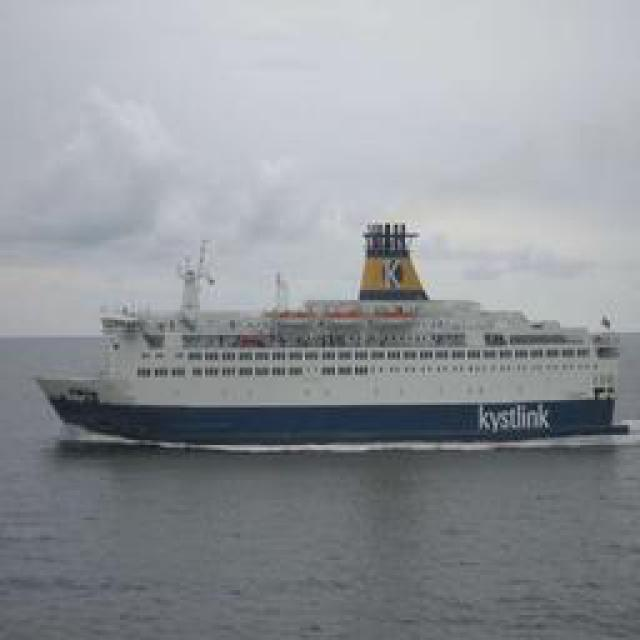Ship: (34, 240, 617, 448)
